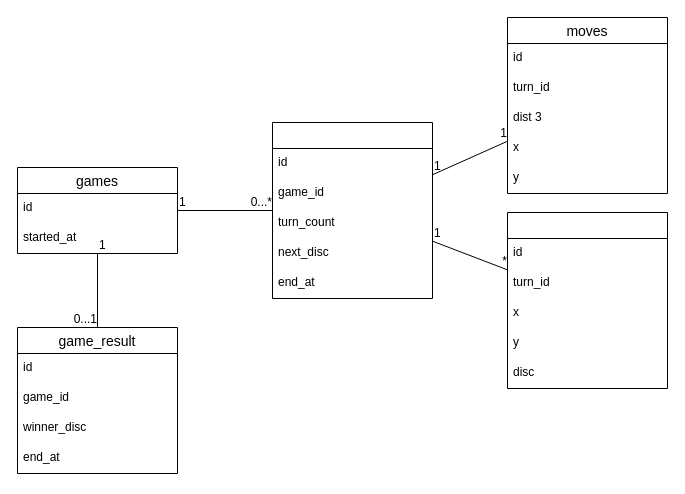
Image size: 685x494. Some labels were removed from this diagram. Each missing label, with the box of its shape:
squares: (506, 212, 668, 388)
turns: (272, 122, 432, 298)
